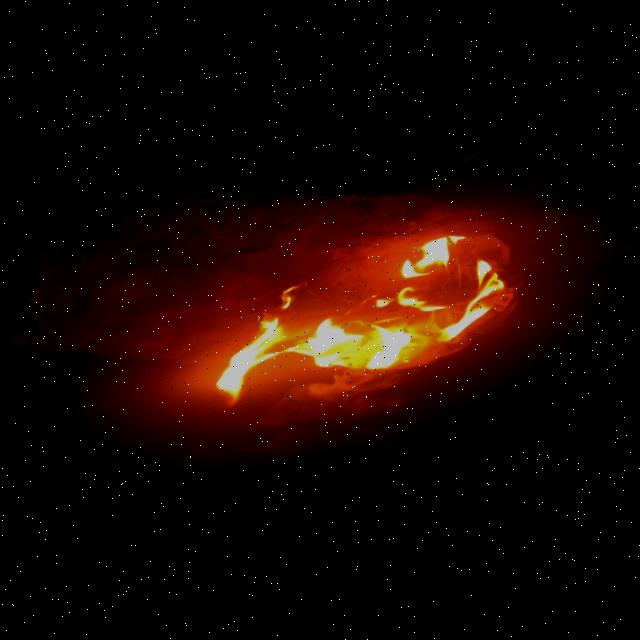Fire: (194, 230, 521, 416)
